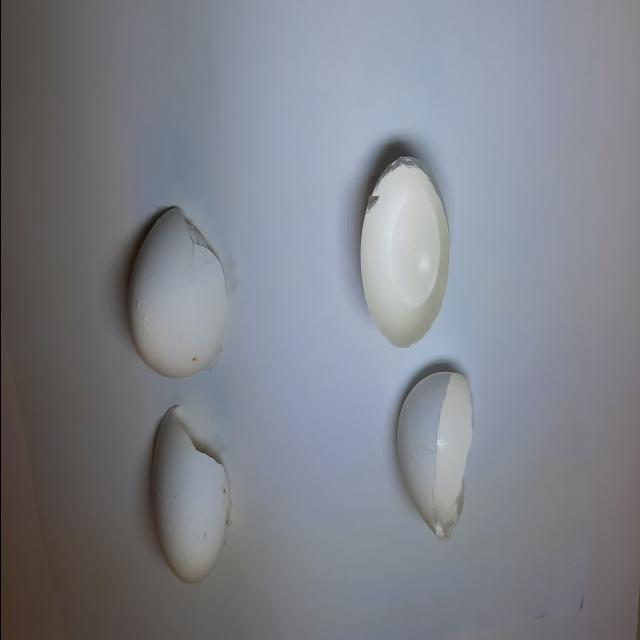egg shell: (122, 199, 240, 393), (354, 144, 456, 360), (140, 391, 244, 597), (388, 360, 484, 554)
